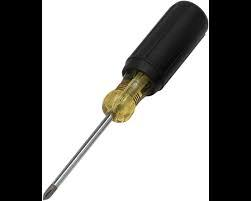screwdriver: (42, 0, 205, 199)
